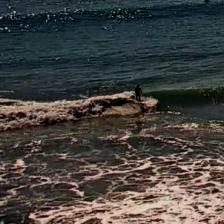surfer: (134, 84, 142, 100), (204, 0, 211, 3)
